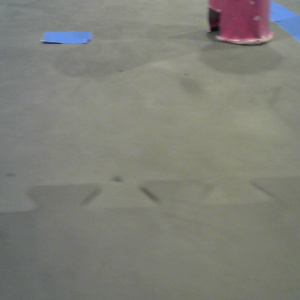right: (205, 1, 274, 44)
